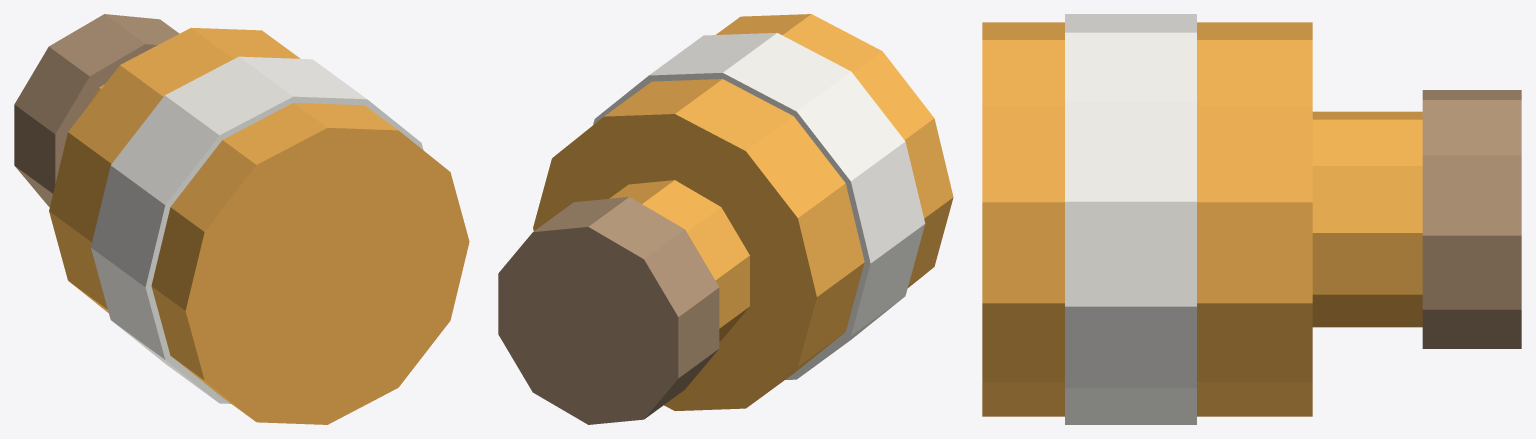
File: orange_dye_held.gltf
3 views of the same model, side by side, from view 1: azimuth 30°, elevation 25°; view 2: azimuth 150°, elevation 25°; view 3: azimuth 270°, elevation 25° (orthographic). The views are drawn at different scales.
Parts seen in each view (by area): view 1: colors_orange_dye_held; view 2: colors_orange_dye_held; view 3: colors_orange_dye_held.
Part boxes in pixels (bbox=[...]): colors_orange_dye_held: bbox=[14, 14, 469, 424]; colors_orange_dye_held: bbox=[498, 14, 953, 424]; colors_orange_dye_held: bbox=[982, 14, 1521, 424].
Size of the model in its own units: 0.075 by 0.075 by 0.098.
